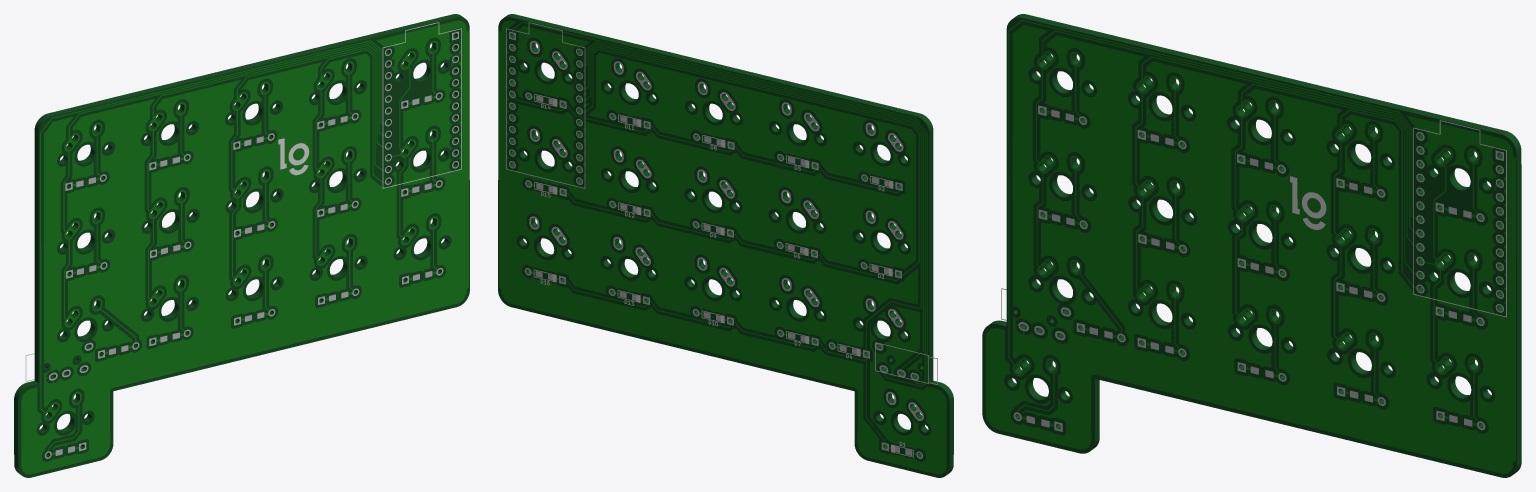
File: right side.fbx
The picture shows the model from 3 angles, left to right: view 1: azimuth 30°, elevation 25°; view 2: azimuth 150°, elevation 25°; view 3: azimuth 330°, elevation 25°; orthographic projection. The views are drawn at different scales.
Parts seen in each view (by area): view 1: TXFM_3, TXFM_2, TXFM_4, TXFM_7; view 2: TXFM_5, TXFM_2, TXFM_6, TXFM_8; view 3: TXFM_3, TXFM_2, TXFM_4, TXFM_7.
Boxes of the visible parts, x1=… form: TXFM_3: x1=21, y1=20, x2=468, y2=474; TXFM_2: x1=14, y1=14, x2=469, y2=477; TXFM_4: x1=44, y1=31, x2=458, y2=458; TXFM_7: x1=278, y1=22, x2=461, y2=188; TXFM_5: x1=499, y1=20, x2=946, y2=474; TXFM_2: x1=498, y1=14, x2=953, y2=477; TXFM_6: x1=509, y1=31, x2=923, y2=458; TXFM_8: x1=506, y1=22, x2=937, y2=457; TXFM_3: x1=986, y1=19, x2=1515, y2=473; TXFM_2: x1=982, y1=14, x2=1521, y2=477; TXFM_4: x1=1013, y1=105, x2=1503, y2=431; TXFM_7: x1=1290, y1=120, x2=1506, y2=317.
Bounding box in the file's own units: 102511 × 77308 × 1700.
